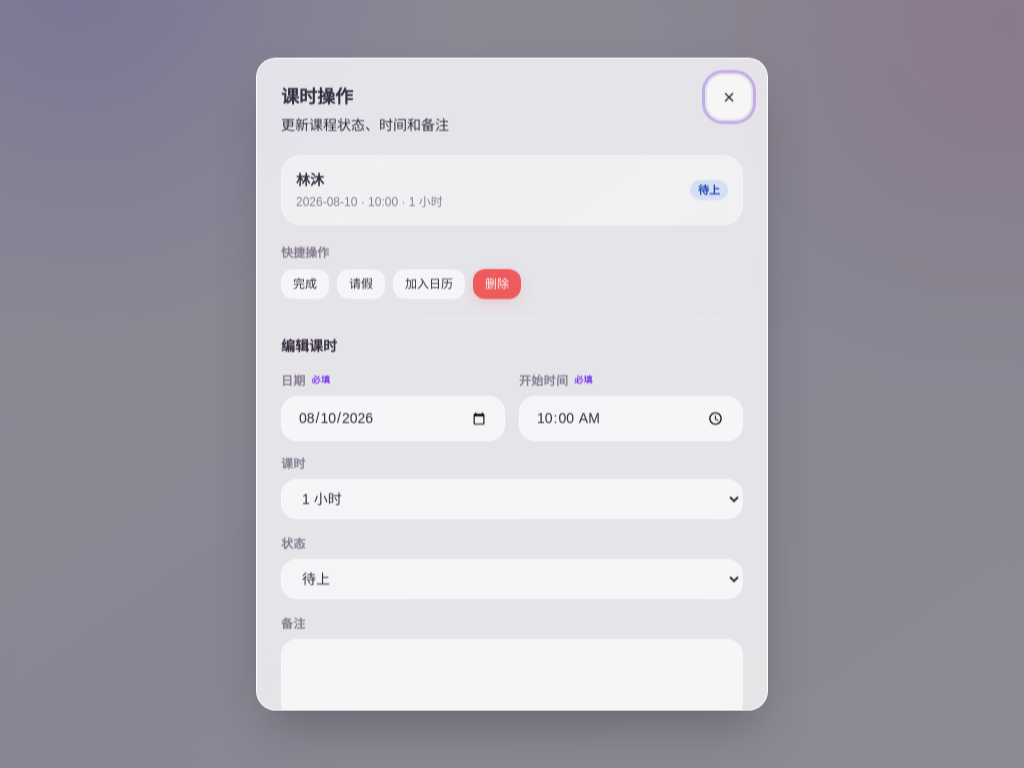
Test: LessonEditModal › shows lesson context and opens an in-app delete confirmation
Click the button "删除": {"x": 497, "y": 284} [473,269,521,299]
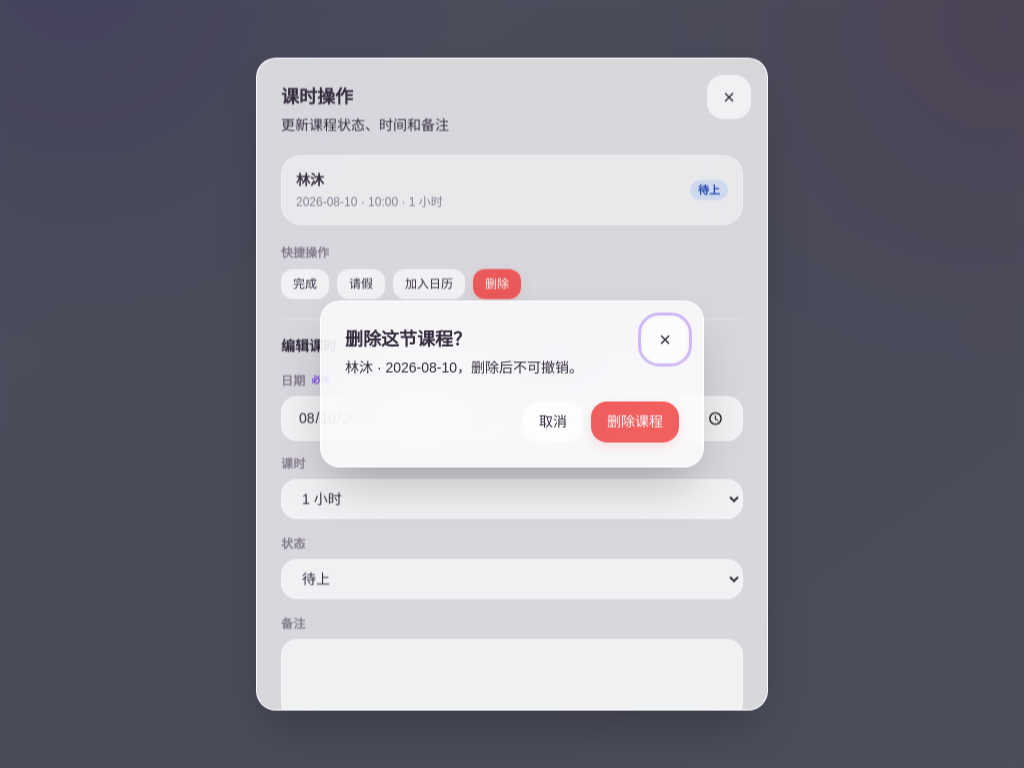
expect the text "删除这节课程？" is shown: met, box [345,330,471,350]
